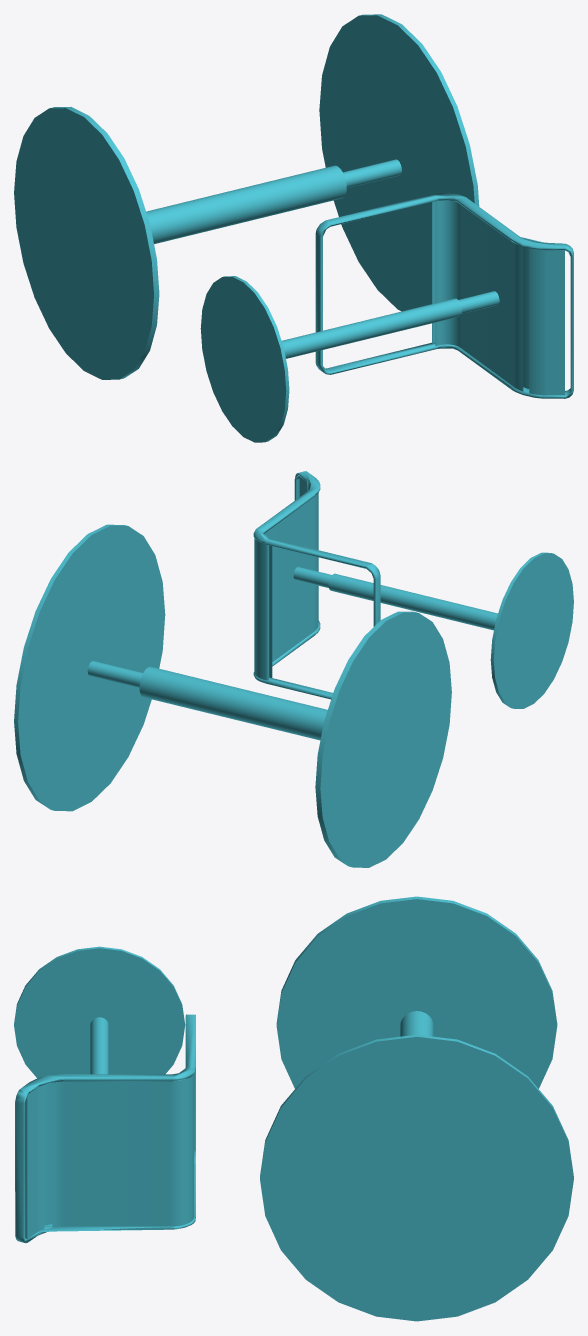
The picture shows the model from 3 angles, top to bottom: view 1: azimuth 30°, elevation 25°; view 2: azimuth 150°, elevation 25°; view 3: azimuth 270°, elevation 25°; orthographic projection. The views are drawn at different scales.
Visible parts, largest first — view 1: Renderer Node; view 2: Renderer Node; view 3: Renderer Node.
Part boxes in pixels (box(x1,y1,x2,y2)): Renderer Node: box(14, 14, 573, 442); Renderer Node: box(14, 471, 573, 867); Renderer Node: box(14, 896, 573, 1321).
Size of the model in its own units: 0.4971 by 0.4245 by 0.7568.
Materials: 1 (1 with a texture image).
